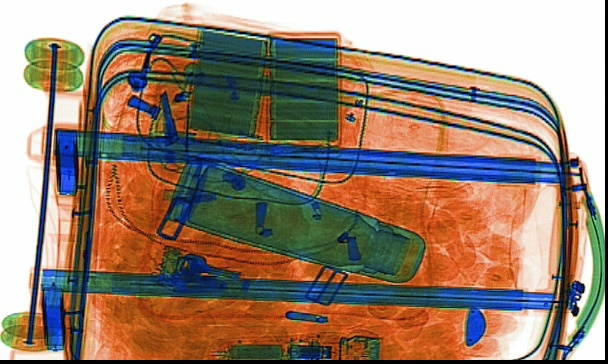powerbank: (176, 23, 270, 158), (265, 29, 343, 146)
